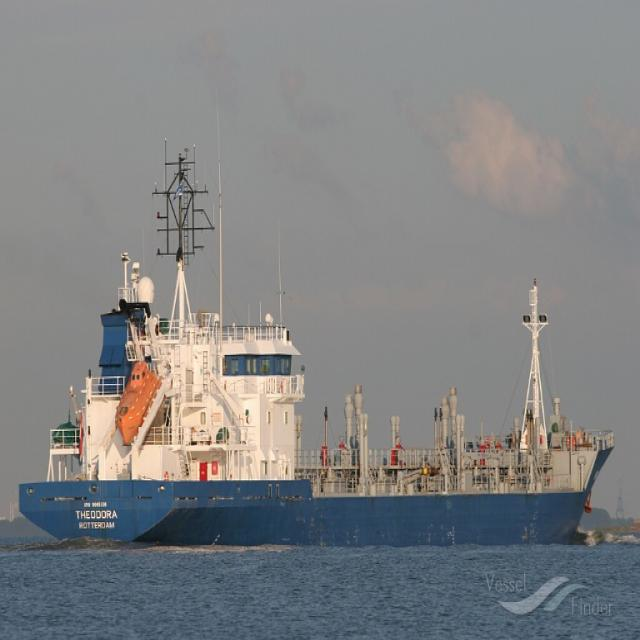OCR: (68, 493, 124, 546)
